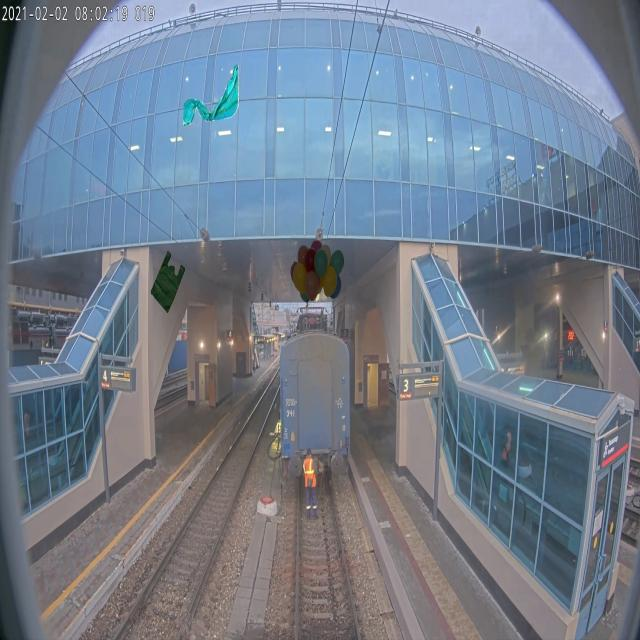balloon: (290, 239, 344, 303)
floating object: (182, 64, 238, 128)
plastic bag: (150, 250, 185, 314)
